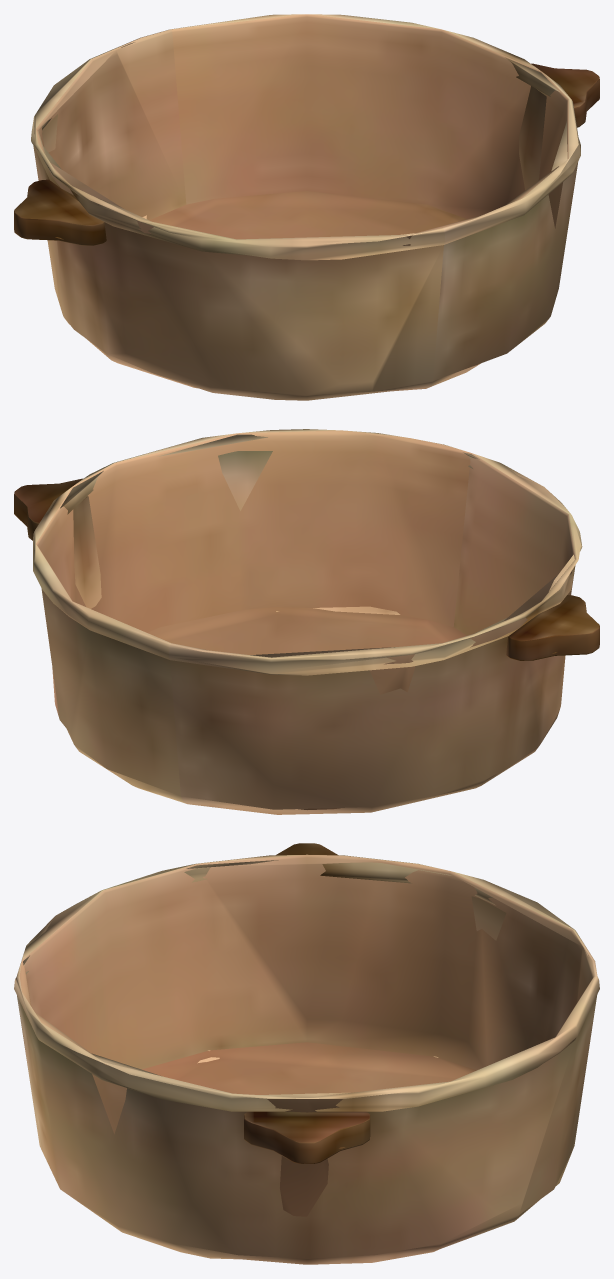
The model's file is brass-pot-02.glb.
The picture shows the model from 3 angles, top to bottom: view 1: azimuth 30°, elevation 25°; view 2: azimuth 150°, elevation 25°; view 3: azimuth 270°, elevation 25°; orthographic projection. The views are drawn at different scales.
Visible parts, largest first — view 1: brass_pot_02; view 2: brass_pot_02; view 3: brass_pot_02.
Boxes of the visible parts, x1=… form: brass_pot_02: x1=14, y1=14, x2=599, y2=400; brass_pot_02: x1=14, y1=429, x2=599, y2=814; brass_pot_02: x1=14, y1=843, x2=599, y2=1264.
Size of the model in its own units: 0.3655 by 0.1066 by 0.3023.
Materials: 1 (1 with a texture image).
